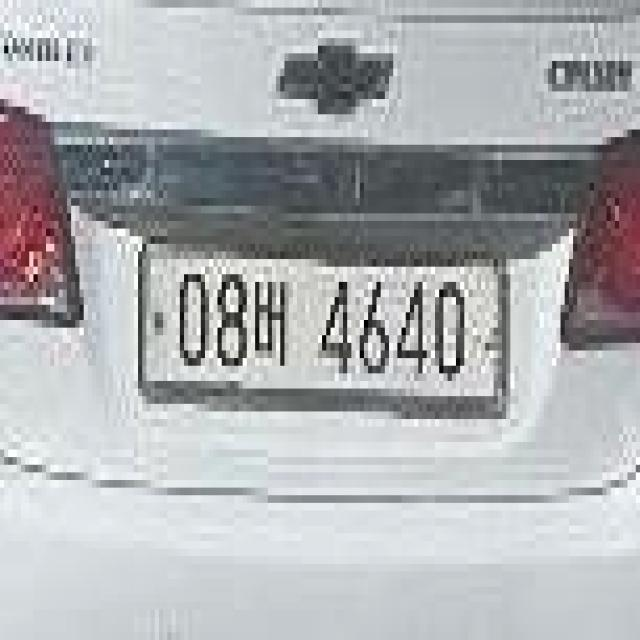illegal_plate: (137, 241, 510, 425)
